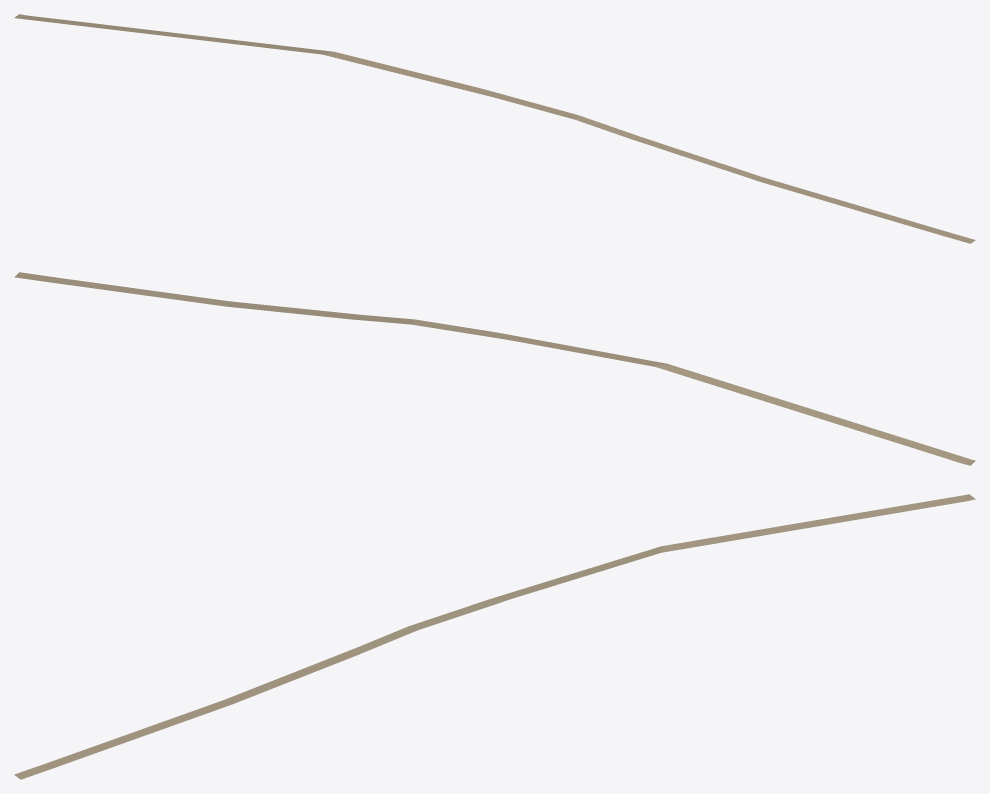
The model's file is farm_28_17_track.glb.
The picture shows the model from 3 angles, top to bottom: view 1: azimuth 30°, elevation 25°; view 2: azimuth 210°, elevation 25°; view 3: azimuth 270°, elevation 25°; orthographic projection. The views are drawn at different scales.
Visible parts, largest first — view 1: geometry_0; view 2: geometry_0; view 3: geometry_0.
Part boxes in pixels (box(x1,y1,x2,y2)): geometry_0: box(14, 14, 975, 243); geometry_0: box(14, 272, 975, 465); geometry_0: box(14, 494, 975, 779).
Size of the model in its own units: 164 by 15.14 by 252.
